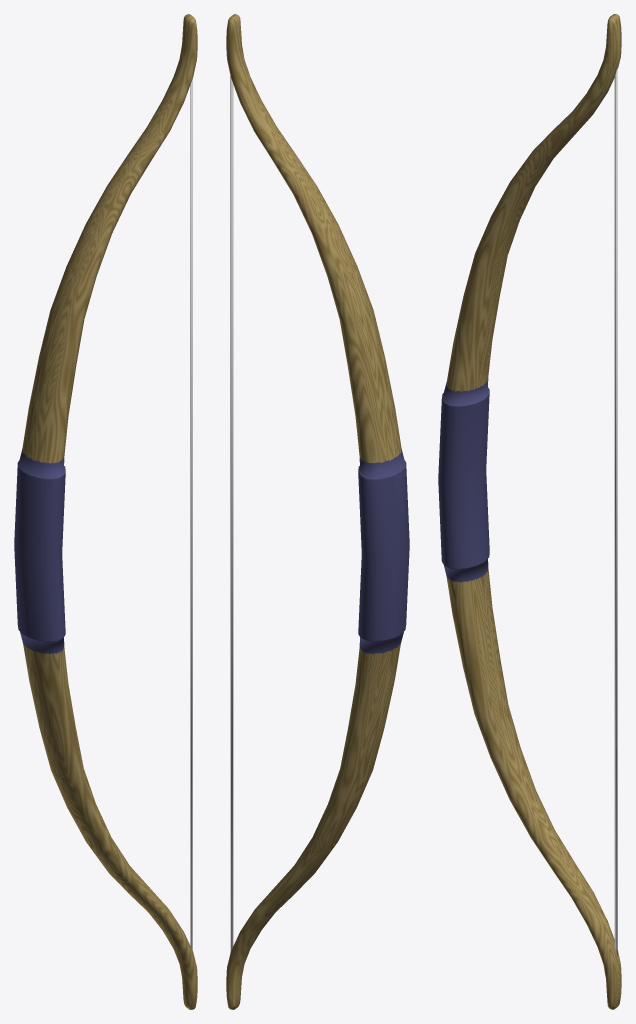
File: Длинный лук.fbx
The picture shows the model from 3 angles, left to right: view 1: azimuth 30°, elevation 25°; view 2: azimuth 150°, elevation 25°; view 3: azimuth 330°, elevation 25°; orthographic projection.
Visible parts, largest first — view 1: Длинный лук; view 2: Длинный лук; view 3: Длинный лук.
Part boxes in pixels (left/top/right/bottom): Длинный лук: left=14, top=14, right=197, bottom=1009; Длинный лук: left=226, top=14, right=409, bottom=1009; Длинный лук: left=438, top=14, right=621, bottom=1009.
Size of the model in its own units: 0.1381 by 0.7371 by 0.0426.
1 material, 1 textured.
